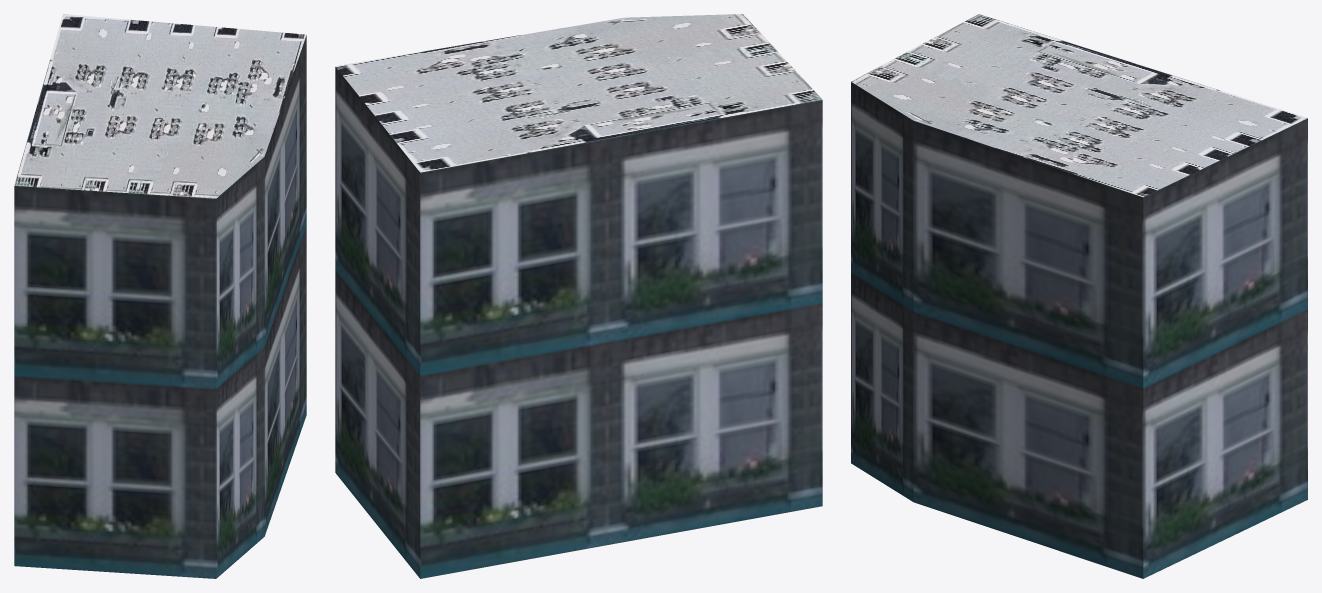
The model's file is ResTex__2710.fbx.
The picture shows the model from 3 angles, left to right: view 1: azimuth 30°, elevation 25°; view 2: azimuth 150°, elevation 25°; view 3: azimuth 270°, elevation 25°; orthographic projection. The views are drawn at different scales.
Parts seen in each view (by area): view 1: CityEngineMaterial_11_m, CityEngineMaterial_m; view 2: CityEngineMaterial_11_m, CityEngineMaterial_m; view 3: CityEngineMaterial_11_m, CityEngineMaterial_m.
Part boxes in pixels (x1=…): CityEngineMaterial_11_m: x1=14, y1=35, x2=306, y2=578; CityEngineMaterial_m: x1=14, y1=14, x2=306, y2=198; CityEngineMaterial_11_m: x1=335, y1=67, x2=822, y2=578; CityEngineMaterial_m: x1=335, y1=14, x2=822, y2=172; CityEngineMaterial_11_m: x1=851, y1=82, x2=1307, y2=578; CityEngineMaterial_m: x1=851, y1=14, x2=1307, y2=197.
Bounding box in the file's own units: 6.18 × 6 × 6.51.
2 materials, 2 textured.
